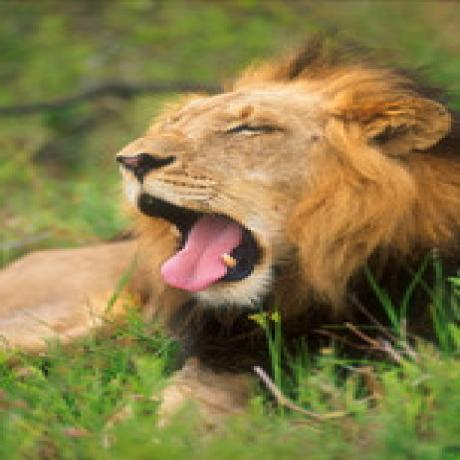Lion: (0, 30, 460, 413)
